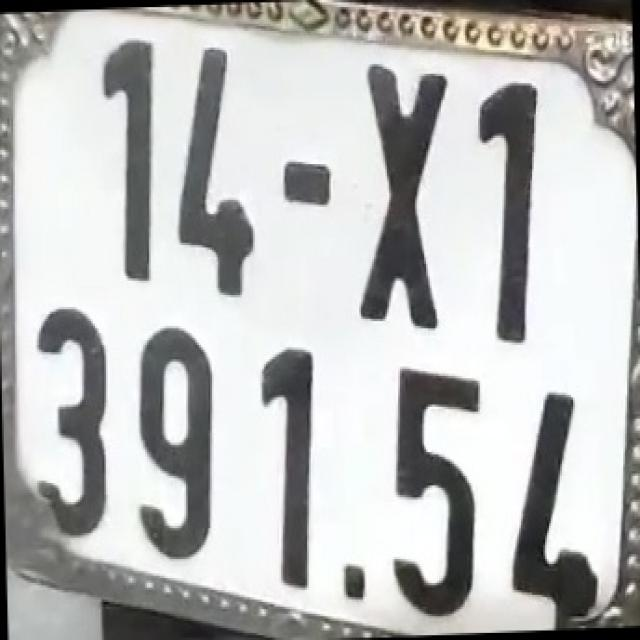1: (470, 71, 550, 345), (251, 335, 329, 595), (96, 33, 166, 288)
3: (26, 297, 115, 540)
4: (506, 381, 603, 621), (175, 40, 262, 300)
5: (383, 357, 484, 621)
9: (130, 319, 223, 564)
X: (357, 74, 450, 319)
